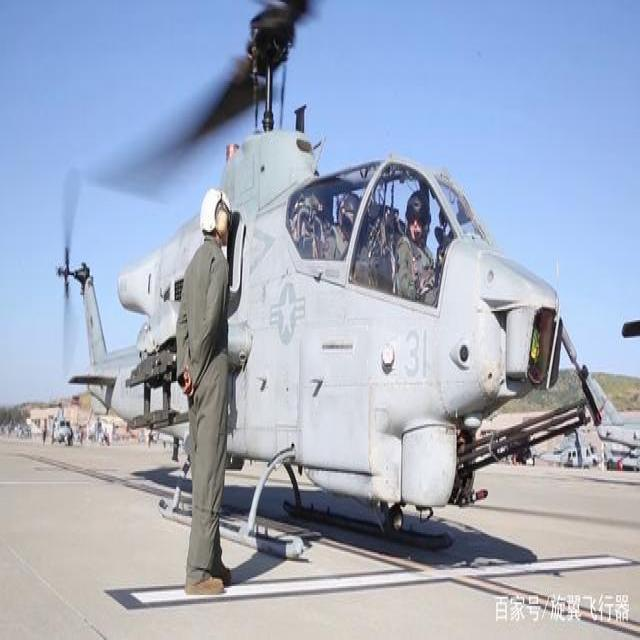MIL_HELO: (44, 0, 612, 562)
